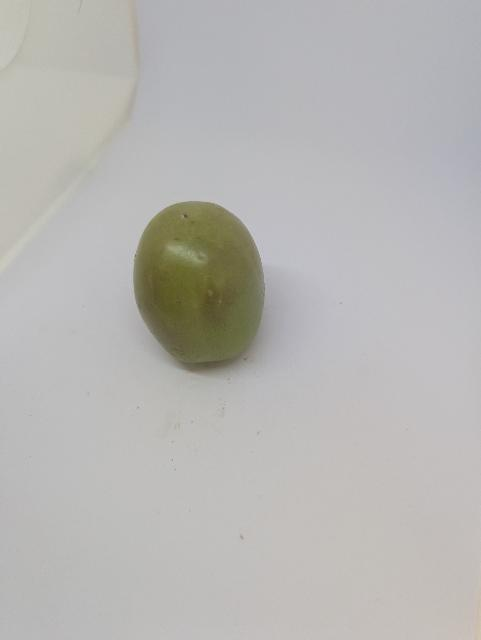green: (116, 191, 285, 373)
